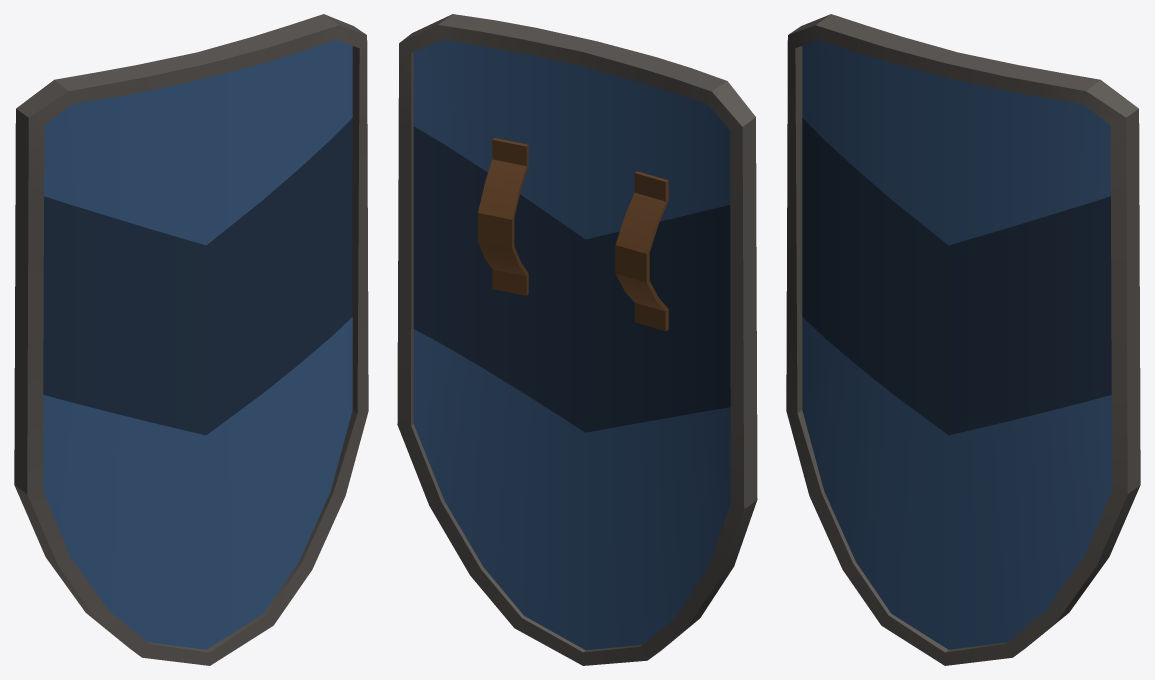
Rendered from Heater Shield_Blue.fbx.
3 renders of one model, left to right at view 1: azimuth 30°, elevation 25°; view 2: azimuth 150°, elevation 25°; view 3: azimuth 330°, elevation 25°, orthographic.
Parts seen in each view (by area): view 1: Heater Shield_Blue; view 2: Heater Shield_Blue; view 3: Heater Shield_Blue.
Part boxes in pixels (left/top/right/bottom): Heater Shield_Blue: left=14, top=14, right=368, bottom=665; Heater Shield_Blue: left=397, top=14, right=757, bottom=665; Heater Shield_Blue: left=786, top=14, right=1140, bottom=665.
Size of the model in its own units: 49.83 by 84.28 by 8.78.
1 material, 1 textured.
